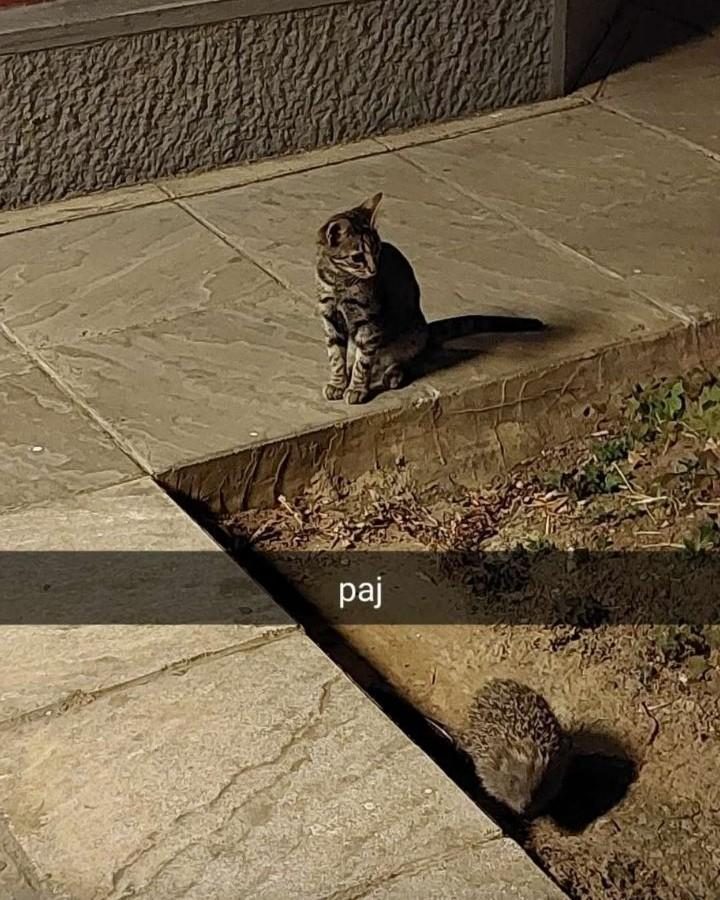jez: (462, 677, 562, 816)
macka: (316, 191, 546, 405)
